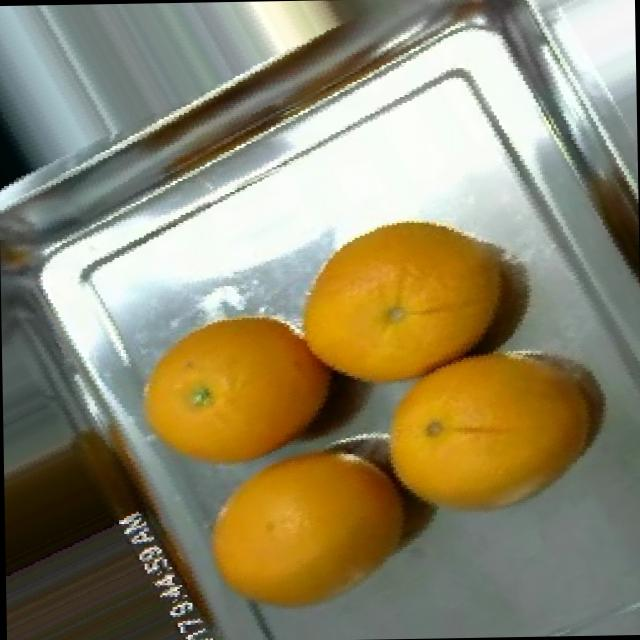Fruit: (0, 49, 38, 216)
